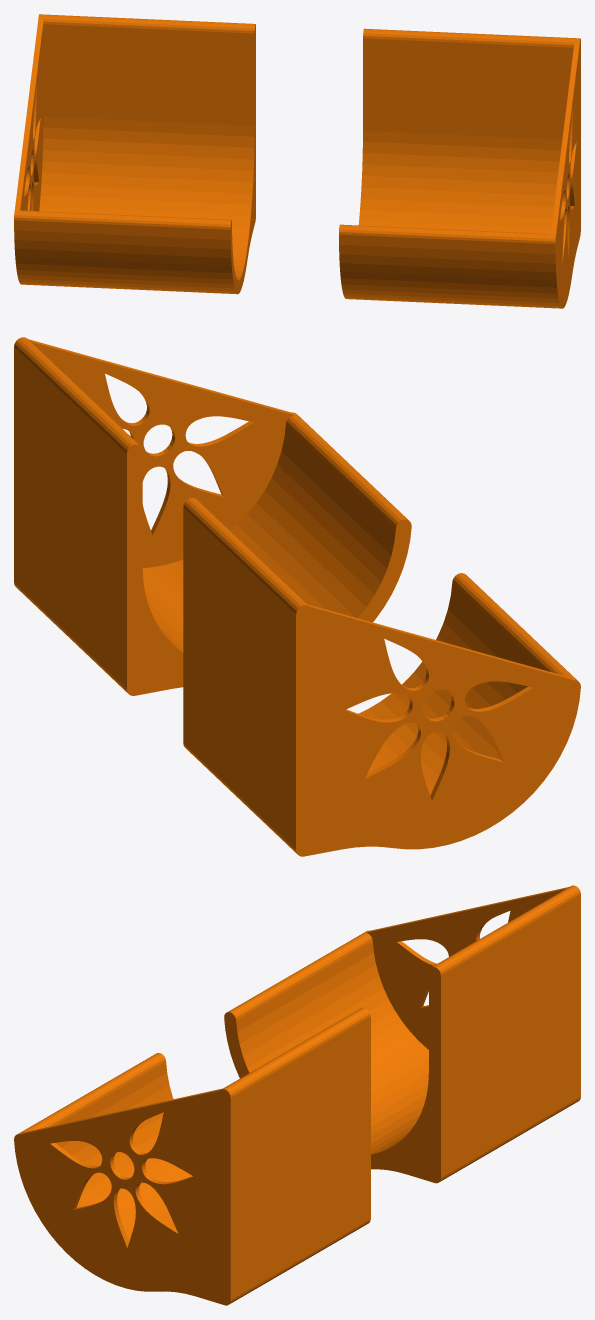
Rendered from RollHolder.glb.
The picture shows the model from 3 angles, top to bottom: view 1: azimuth 30°, elevation 25°; view 2: azimuth 150°, elevation 25°; view 3: azimuth 270°, elevation 25°; orthographic projection. The views are drawn at different scales.
Visible parts, largest first — view 1: RollHolder; view 2: RollHolder; view 3: RollHolder.
Part boxes in pixels (x1,y1,x2,y2): RollHolder: [14, 14, 580, 308]; RollHolder: [14, 337, 580, 856]; RollHolder: [14, 885, 580, 1305].
Bounding box in the file's own units: 215 × 84.97 × 190.
